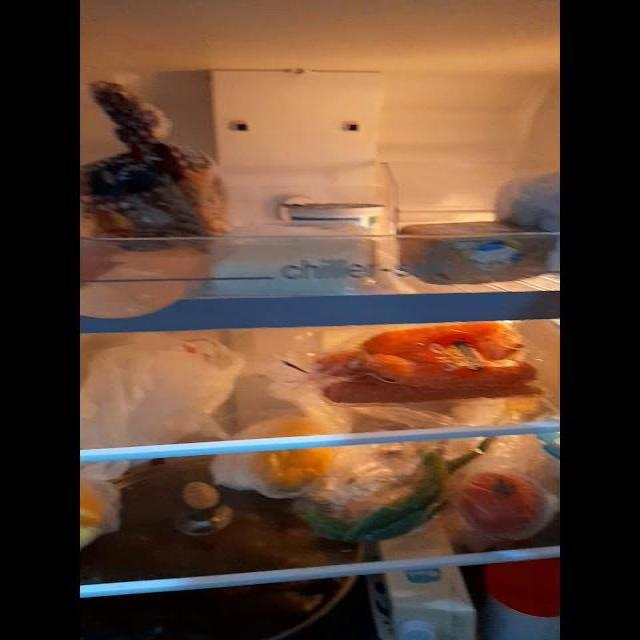bread: (81, 124, 238, 259)
butter: (398, 219, 558, 291)
carrot: (335, 325, 545, 397)
cheese: (216, 226, 393, 294)
green chilies: (348, 456, 453, 548)
lemon: (235, 419, 342, 492)
milk: (362, 535, 490, 640)
tomato: (457, 464, 548, 536)
